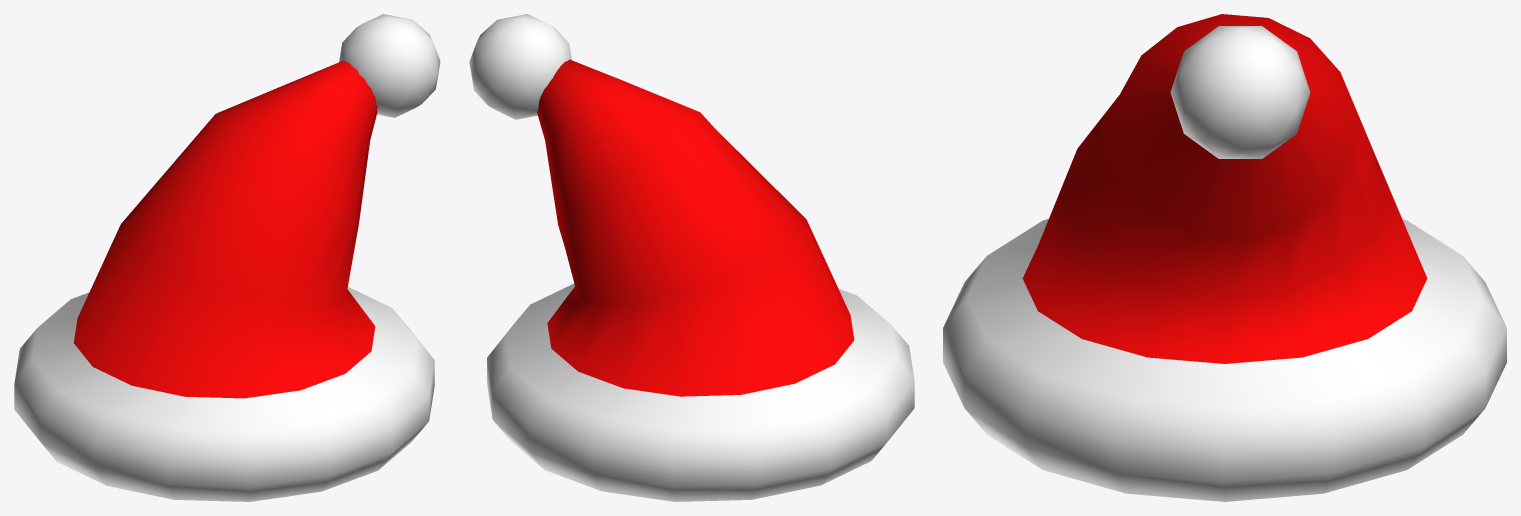
File: SantaHat.fbx
3 renders of one model, left to right at view 1: azimuth 30°, elevation 25°; view 2: azimuth 150°, elevation 25°; view 3: azimuth 270°, elevation 25°, orthographic. The views are drawn at different scales.
Parts seen in each view (by area): view 1: Cylinder.006; view 2: Cylinder.006; view 3: Cylinder.006.
Boxes of the visible parts, x1,y1,x2,y2 form: Cylinder.006: [14, 14, 440, 501]; Cylinder.006: [469, 14, 914, 501]; Cylinder.006: [943, 14, 1506, 501].
Bounding box in the file's own units: 340 × 292 × 314.
